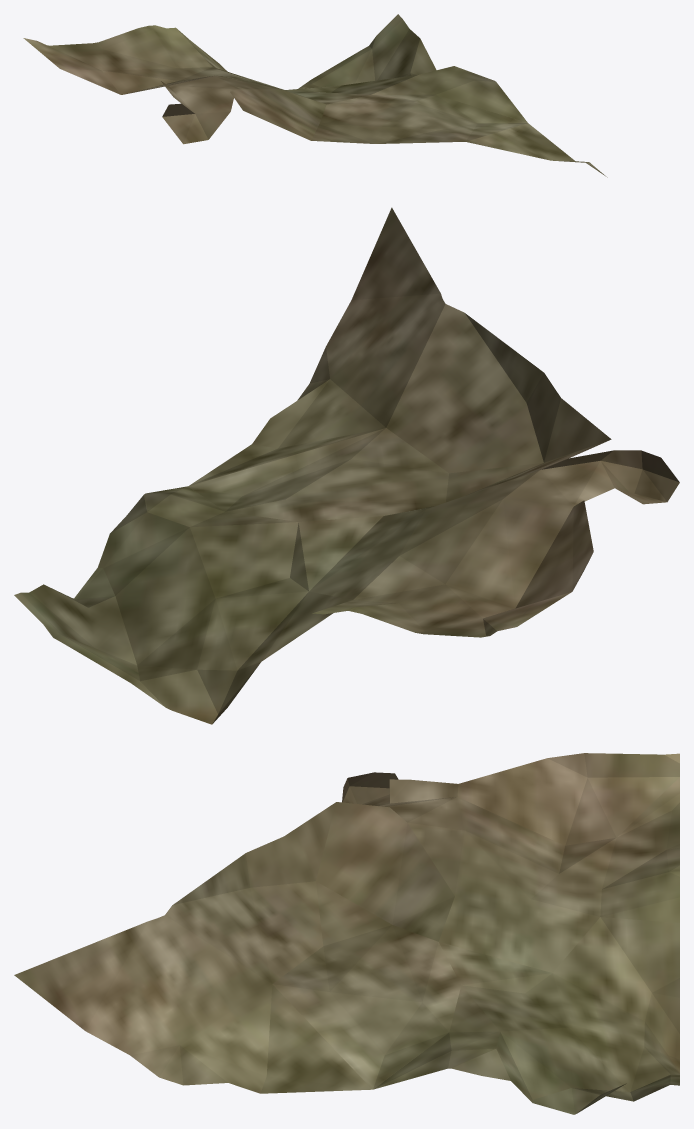
3 views of the same model, one above another, from view 1: azimuth 30°, elevation 25°; view 2: azimuth 150°, elevation 25°; view 3: azimuth 270°, elevation 25° (orthographic). The views are drawn at different scales.
Bounding box in the file's own units: 1.18 × 0.4193 × 1.49.
1 material, 1 textured.
